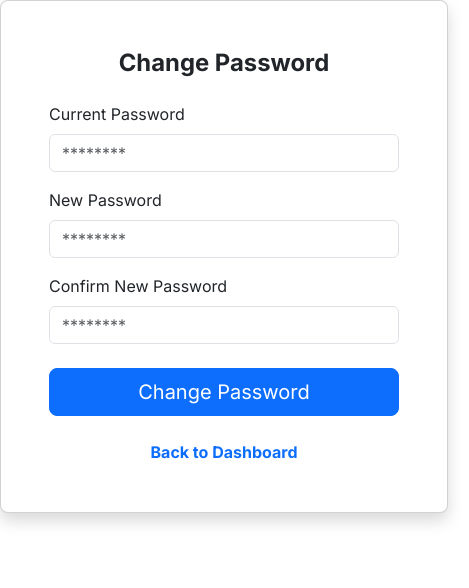
Test case: ProfileSettings › shows validation error if new password is same as current password
The image size is (469, 588).
Type "samepass" into the password field labelled "Current Password". click: (224, 153)
box: [49,134,399,172]
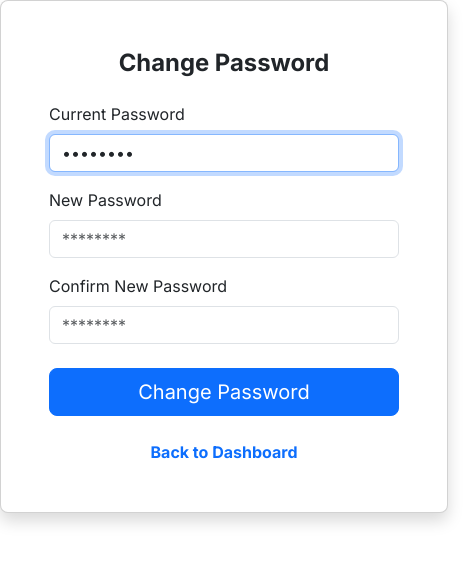
Type "samepass" into the password field labelled "New Password". click: (224, 239)
box: [49,220,399,258]
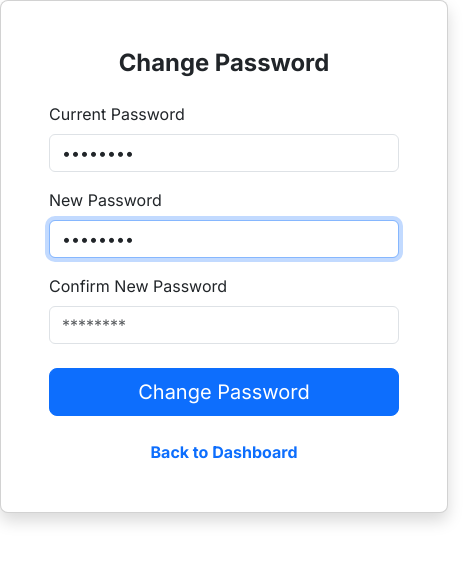
Type "samepass" into the password field labelled "Confirm New Password". click: (224, 325)
box: [49,306,399,344]
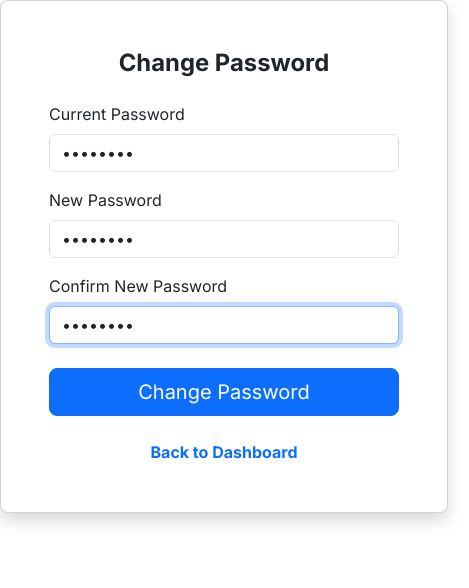
Click the button "Change Password". click: click(224, 392)
box: [49,368,399,416]
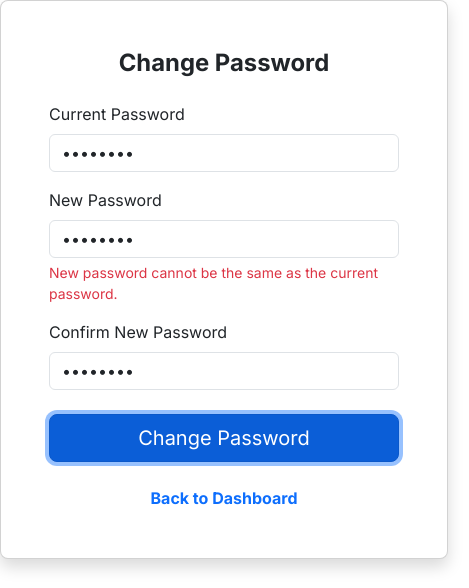
expect the text "New password cannot be the same as the current password." is shown: met, box [49,262,399,304]
